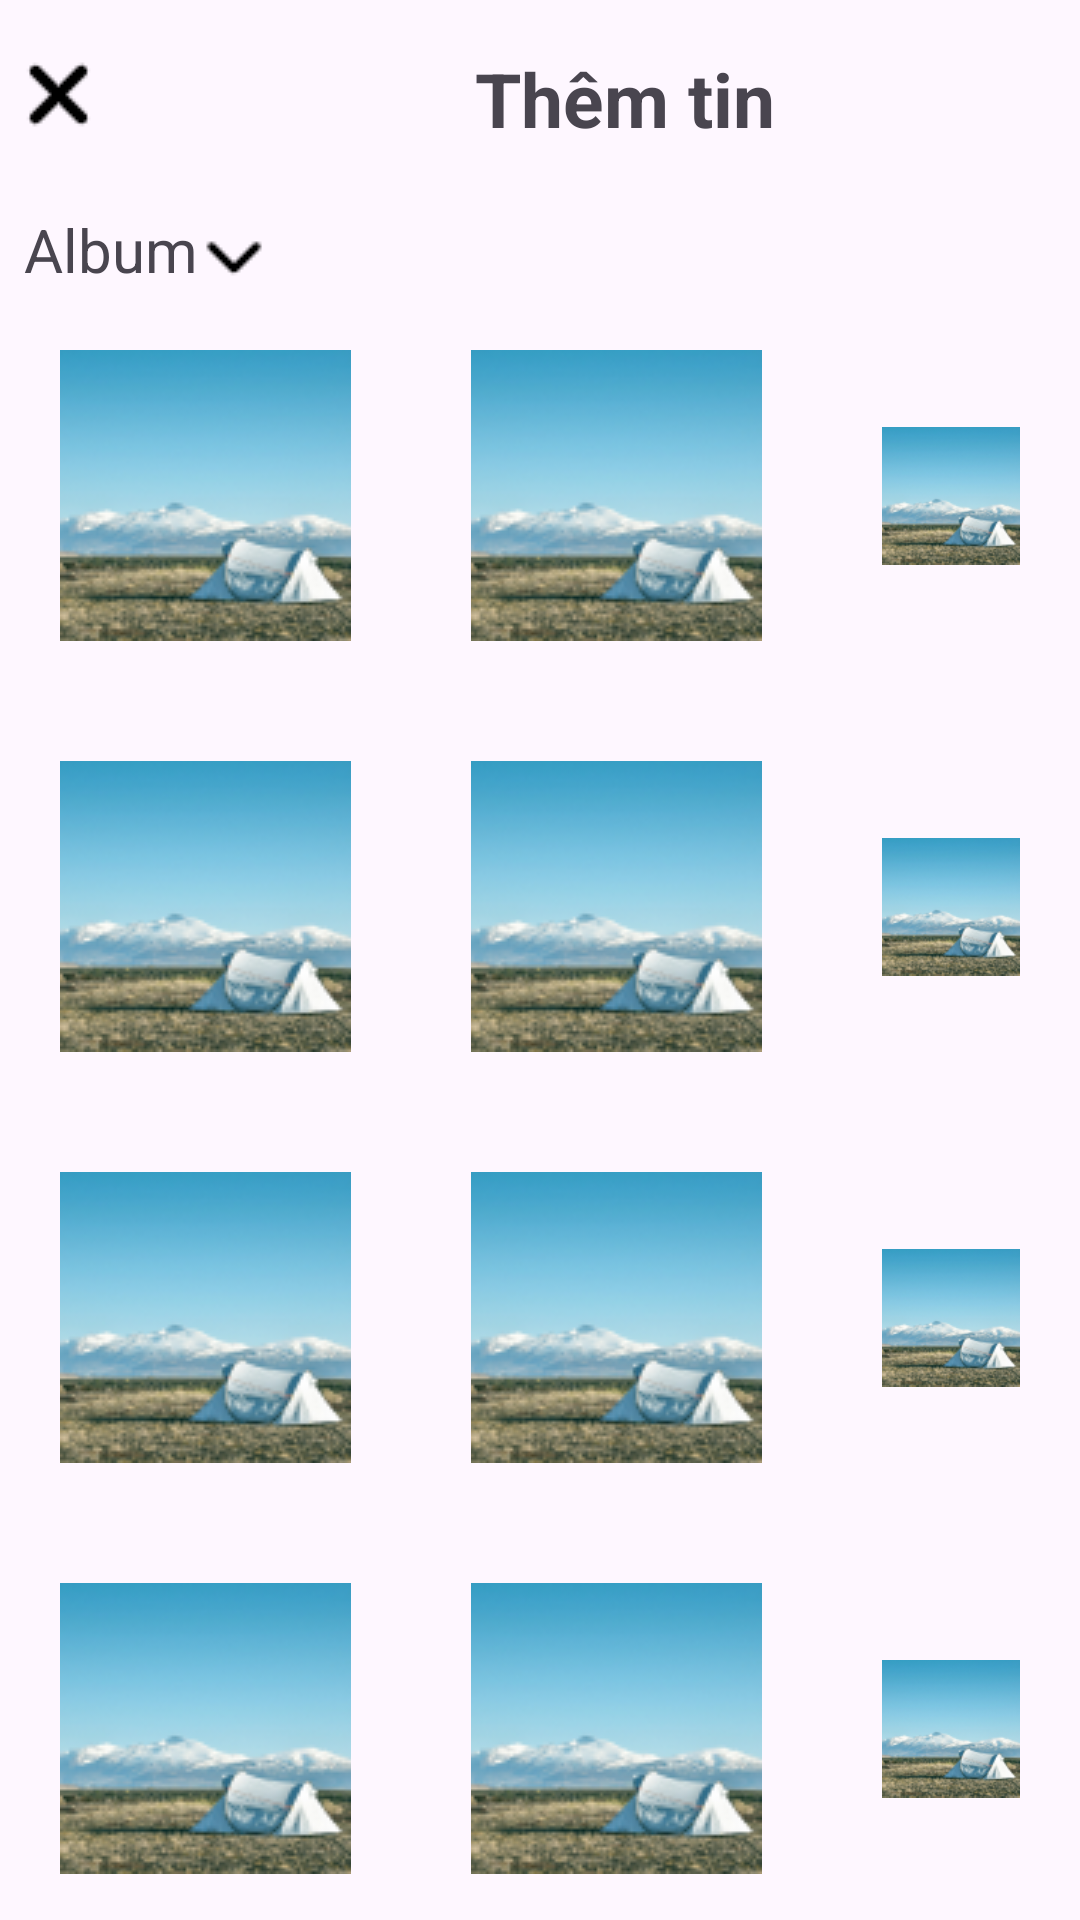

Where to tap for icons on this 1080px x 1920px app screen, as (x=x, y=y):
chevron down: (x=234, y=257)
xmark: (x=58, y=94)
